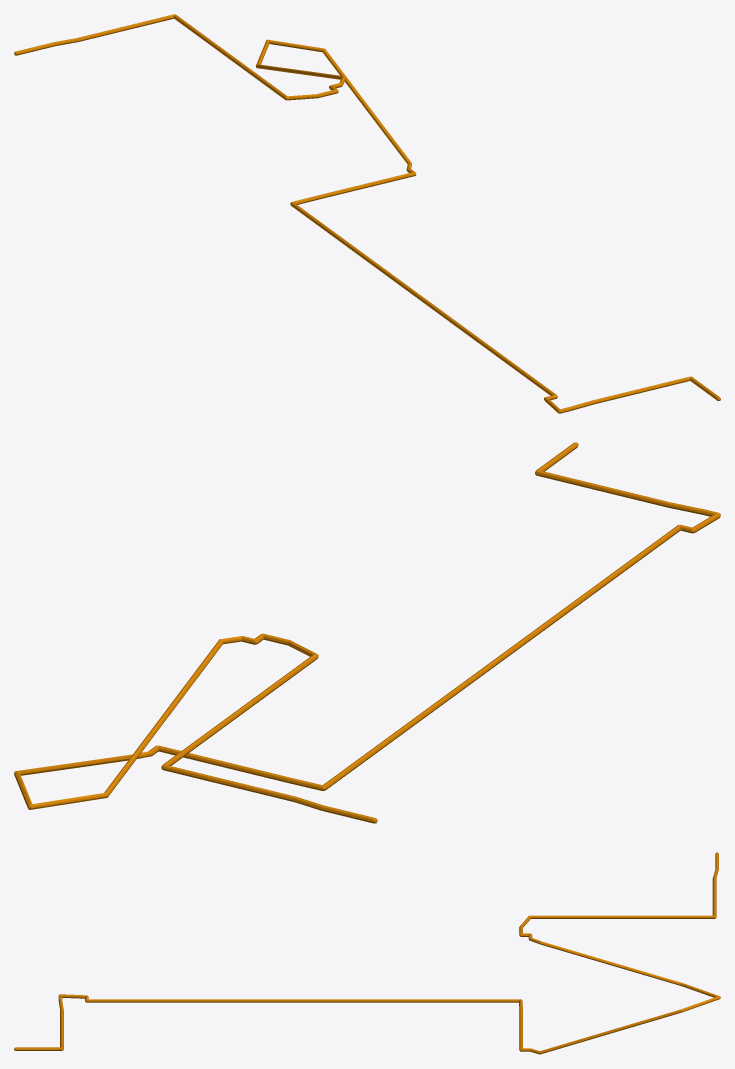
The picture shows the model from 3 angles, top to bottom: view 1: azimuth 30°, elevation 25°; view 2: azimuth 150°, elevation 25°; view 3: azimuth 270°, elevation 25°; orthographic projection. The views are drawn at different scales.
Size of the model in its own units: 1495 by 520 by 3829.
